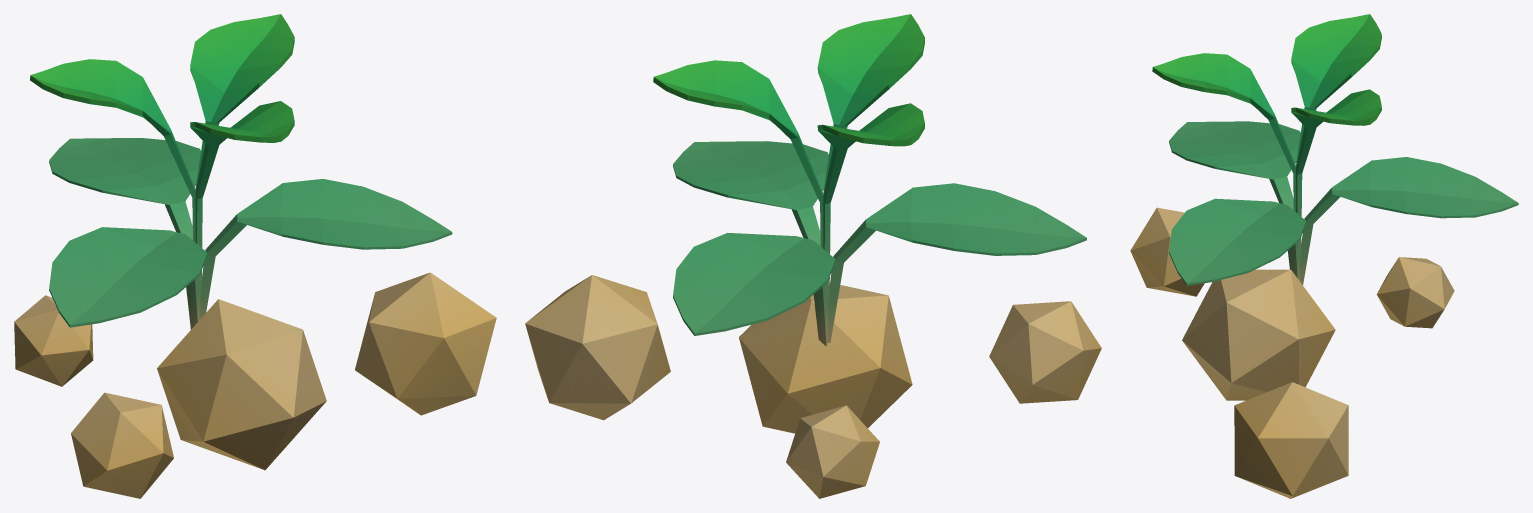
File: potato4.glb
3 views of the same model, side by side, from view 1: azimuth 30°, elevation 25°; view 2: azimuth 150°, elevation 25°; view 3: azimuth 270°, elevation 25° (orthographic). The views are drawn at different scales.
Parts seen in each view (by area): view 1: Potato4; view 2: Potato4; view 3: Potato4.
Part boxes in pixels (left/top/right/bottom): Potato4: left=14, top=14, right=496, bottom=498; Potato4: left=525, top=14, right=1101, bottom=498; Potato4: left=1130, top=14, right=1518, bottom=498.
Bounding box in the file's own units: 0.9095 × 0.7178 × 0.7452.
Materials: 1 (1 with a texture image).
